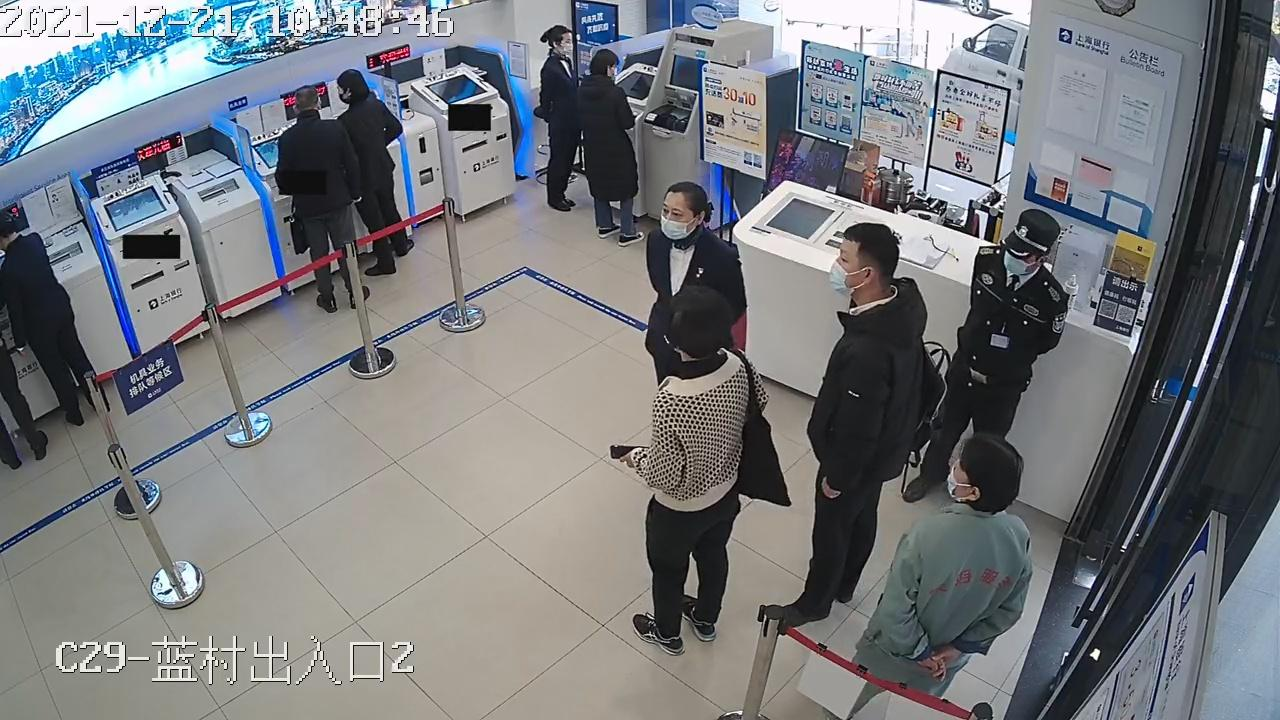person: (767, 224, 939, 638), (614, 285, 767, 656), (853, 431, 1034, 702), (907, 207, 1070, 502), (0, 214, 109, 425), (1, 214, 109, 426), (275, 87, 368, 312), (644, 182, 749, 360), (332, 68, 414, 277), (578, 48, 642, 247), (0, 239, 47, 471), (536, 25, 581, 213)
